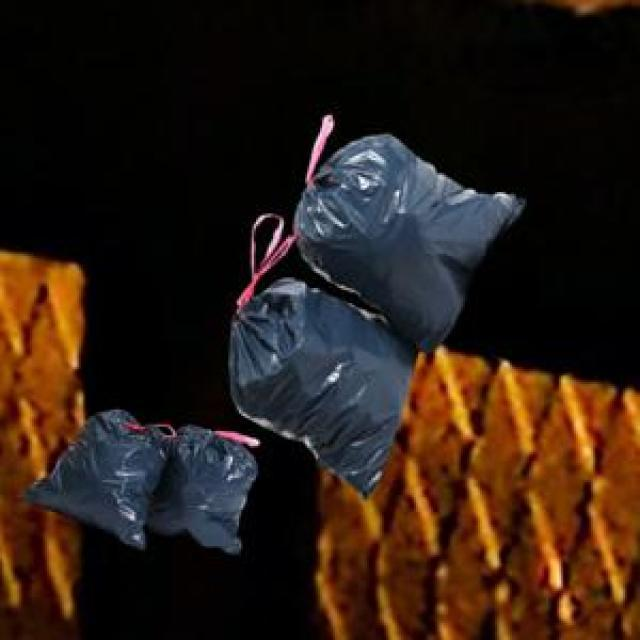Vinyl: (229, 135, 524, 493), (230, 135, 524, 493), (28, 410, 255, 553), (28, 411, 256, 553)
